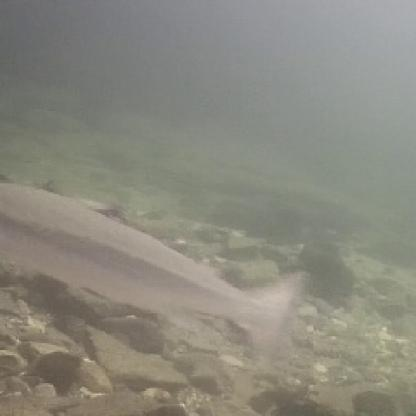salmon: (0, 177, 316, 365)
